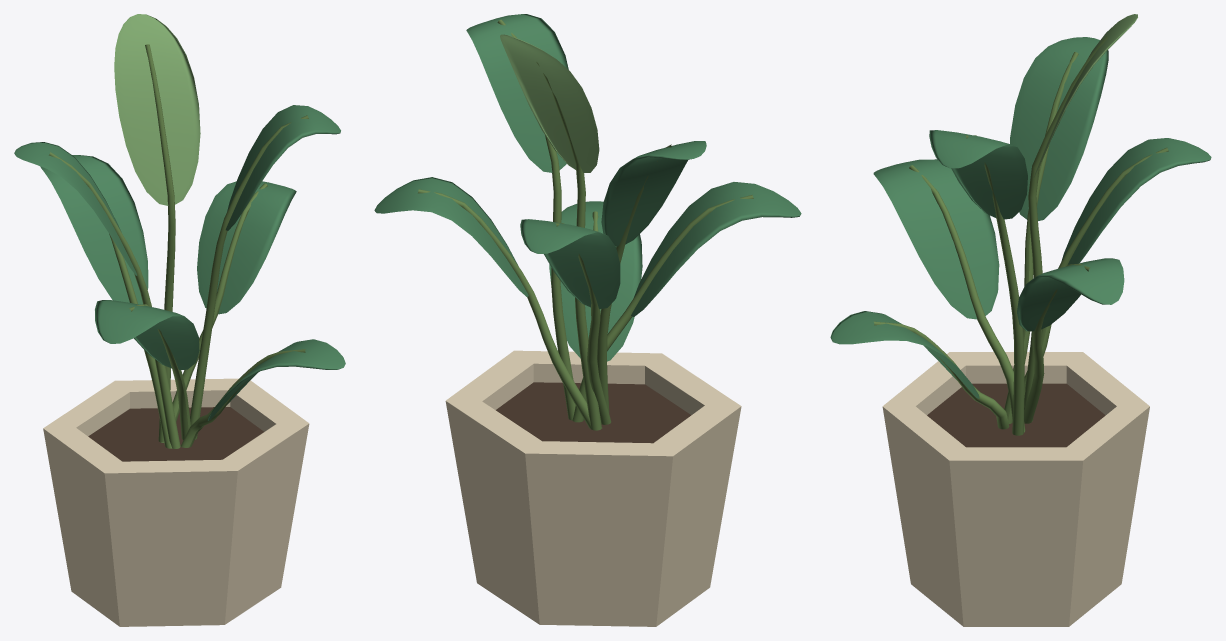
3 views of the same model, side by side, from view 1: azimuth 30°, elevation 25°; view 2: azimuth 150°, elevation 25°; view 3: azimuth 270°, elevation 25° (orthographic). The views are drawn at different scales.
Parts seen in each view (by area): view 1: desktop-plant-pot, desktop-plant-foliage, desktop-plant-accent, desktop-plant-stems, desktop-plant-soil; view 2: desktop-plant-pot, desktop-plant-foliage, desktop-plant-stems, desktop-plant-soil, desktop-plant-accent; view 3: desktop-plant-pot, desktop-plant-foliage, desktop-plant-stems, desktop-plant-soil, desktop-plant-accent.
Boxes of the visible parts, box(x1,y1,x2,y2) form: desktop-plant-pot: box(43, 378, 309, 626); desktop-plant-foliage: box(14, 105, 345, 420); desktop-plant-accent: box(114, 14, 200, 205); desktop-plant-stems: box(49, 44, 308, 448); desktop-plant-soil: box(88, 407, 263, 461); desktop-plant-pot: box(445, 350, 741, 626); desktop-plant-foliage: box(374, 14, 801, 361); desktop-plant-stems: box(418, 19, 753, 430); desktop-plant-soil: box(496, 382, 691, 443); desktop-plant-accent: box(500, 34, 599, 172); desktop-plant-pot: box(882, 352, 1149, 626); desktop-plant-foliage: box(830, 37, 1211, 398); desktop-plant-stems: box(874, 36, 1168, 435); desktop-plant-soil: box(927, 383, 1105, 447); desktop-plant-accent: box(1033, 14, 1137, 178).
Bounding box in the file's own units: 0.2431 × 0.433 × 0.2596.
